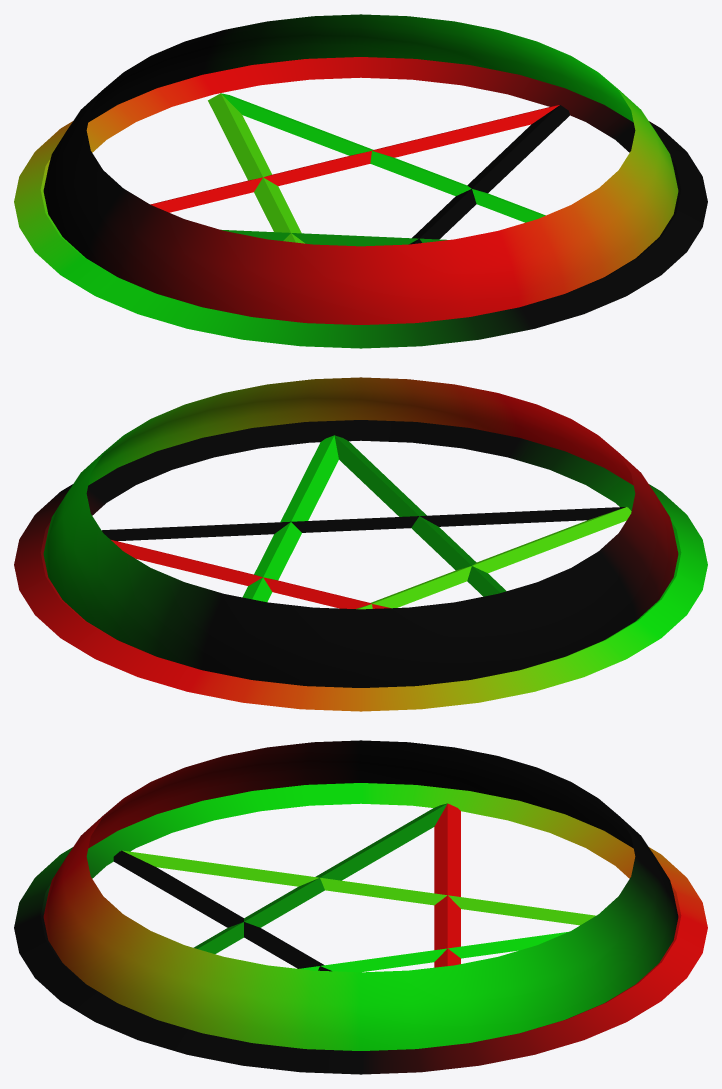
The model's file is uni_pentagram.fbx.
3 renders of one model, top to bottom at view 1: azimuth 30°, elevation 25°; view 2: azimuth 150°, elevation 25°; view 3: azimuth 270°, elevation 25°, orthographic.
Visible parts, largest first — view 1: uni_pentagram; view 2: uni_pentagram; view 3: uni_pentagram.
Boxes of the visible parts, left/top/right/bottom form: uni_pentagram: left=14, top=14, right=707, bottom=348; uni_pentagram: left=14, top=377, right=707, bottom=711; uni_pentagram: left=14, top=740, right=707, bottom=1074.
Size of the model in its own units: 20801 by 20801 by 2364.
